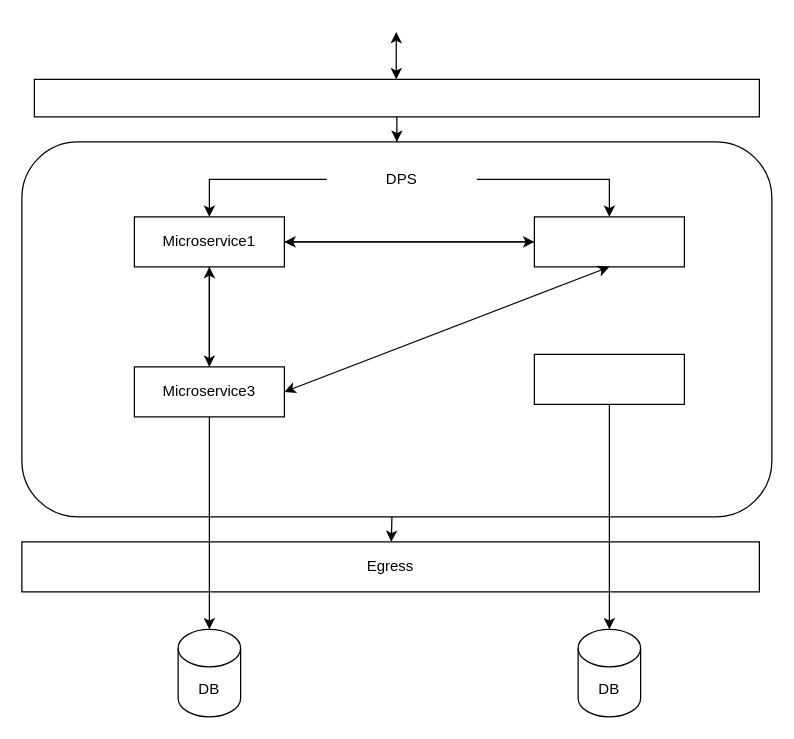
Image size: 794x739. Some labels were removed from this diagram. The shapes that lost their labels are listed below. From the top down, each one's centre as x and y in pixels, then its label:
At point (396, 97): "Ingress (Authentication, Authorization)".
At point (608, 241): "Microservice2".
At point (608, 378): "MicroserviceN".
